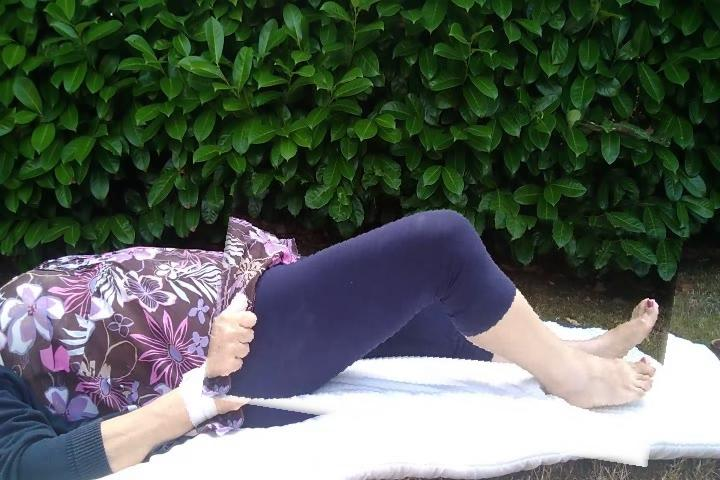lower_body: (209, 188, 677, 451)
